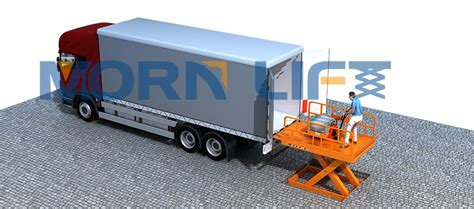Scissor Lift: (281, 100, 376, 200)
